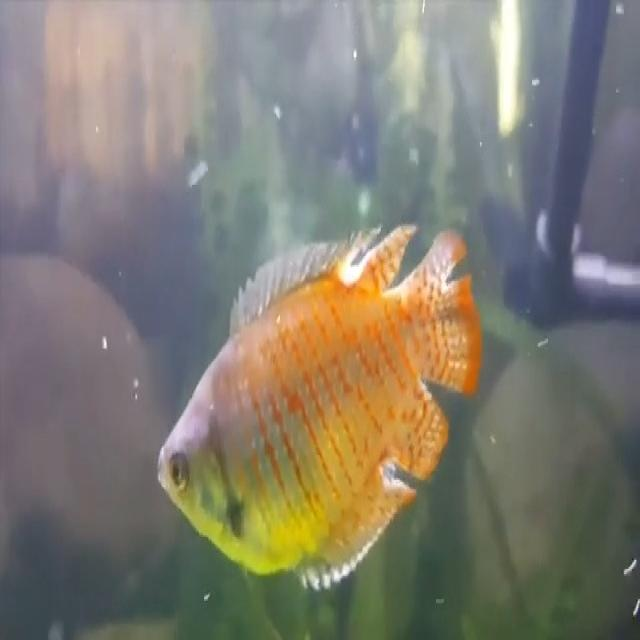fish: (158, 219, 480, 597)
